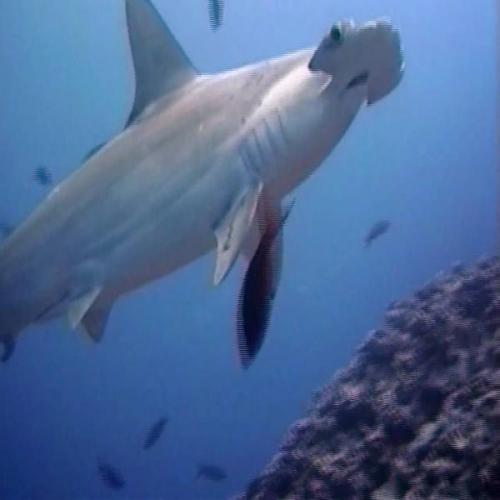shark-endangered: (0, 7, 407, 374)
